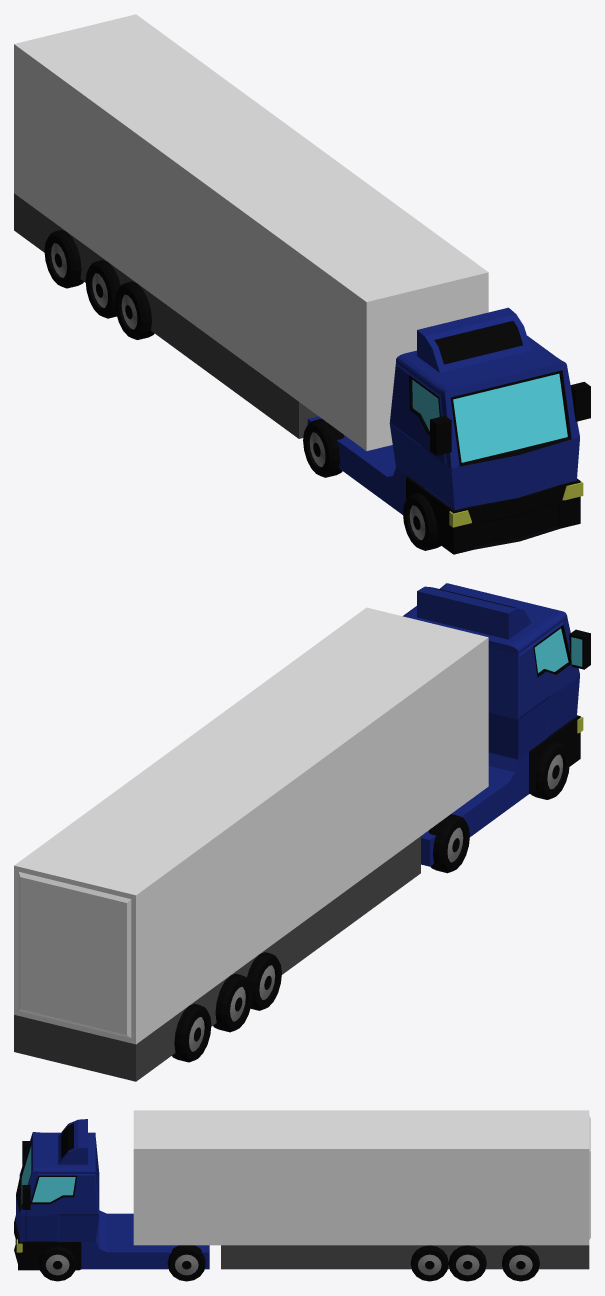
The model's file is lkw.fbx.
3 renders of one model, top to bottom at view 1: azimuth 30°, elevation 25°; view 2: azimuth 150°, elevation 25°; view 3: azimuth 270°, elevation 25°, orthographic. The views are drawn at different scales.
Parts seen in each view (by area): view 1: Anhänger, LKW, Reifen.003, Reifen.007, Reifen.009, Reifen.001, Reifen.008; view 2: Anhänger, LKW, Reifen.003, Reifen.007, Reifen.008, Reifen.001, Reifen.009; view 3: Anhänger, LKW, Reifen.002, Reifen.005, Reifen.006, Reifen.004, Reifen.
Part boxes in pixels (bbox=[...]): Anhänger: bbox=[14, 14, 488, 451]; LKW: bbox=[307, 307, 590, 554]; Reifen.003: bbox=[303, 418, 344, 477]; Reifen.007: bbox=[44, 230, 83, 288]; Reifen.009: bbox=[115, 281, 154, 339]; Reifen.001: bbox=[403, 493, 440, 550]; Reifen.008: bbox=[85, 260, 120, 318]; Anhänger: bbox=[14, 607, 488, 1081]; LKW: bbox=[403, 583, 590, 866]; Reifen.003: bbox=[429, 814, 469, 873]; Reifen.007: bbox=[172, 1003, 211, 1062]; Reifen.008: bbox=[213, 973, 252, 1032]; Reifen.001: bbox=[531, 742, 569, 799]; Reifen.009: bbox=[247, 952, 281, 1010]; Anhänger: bbox=[133, 1110, 590, 1269]; LKW: bbox=[14, 1119, 209, 1270]; Reifen.002: bbox=[167, 1245, 205, 1281]; Reifen.005: bbox=[448, 1245, 486, 1281]; Reifen.006: bbox=[410, 1245, 448, 1281]; Reifen.004: bbox=[502, 1245, 539, 1281]; Reifen: bbox=[38, 1246, 76, 1281].
Bounding box in the file's own units: 303 × 380 × 1520.
